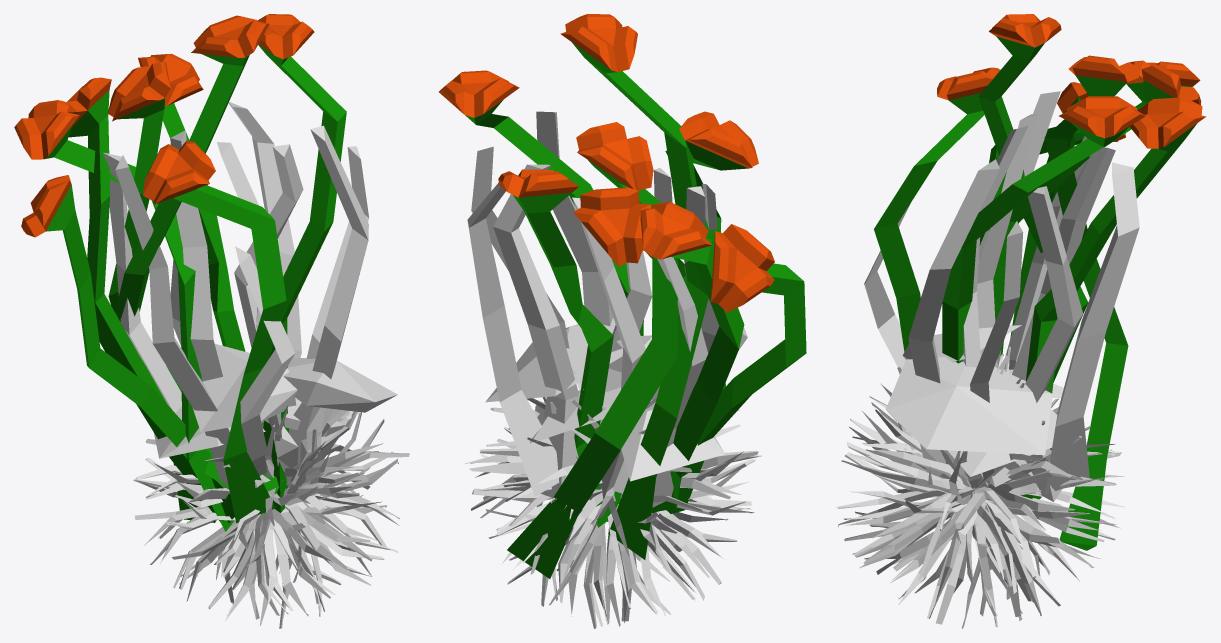
Rendered from seagrass.glb.
The picture shows the model from 3 angles, left to right: view 1: azimuth 30°, elevation 25°; view 2: azimuth 150°, elevation 25°; view 3: azimuth 270°, elevation 25°; orthographic projection. The views are drawn at different scales.
Visible parts, largest first — view 1: flower-1, seagrass-1, seagrass-3, seagrass-2; view 2: flower-1, seagrass-1, seagrass-3, seagrass-2; view 3: flower-1, seagrass-1, seagrass-3, seagrass-2.
Part boxes in pixels (left/top/right/bottom): flower-1: left=14, top=14, right=346, bottom=531; seagrass-1: left=103, top=102, right=369, bottom=487; seagrass-3: left=133, top=357, right=409, bottom=628; seagrass-2: left=153, top=344, right=397, bottom=488; flower-1: left=439, top=14, right=806, bottom=578; seagrass-1: left=467, top=111, right=747, bottom=507; seagrass-3: left=465, top=369, right=761, bottom=628; seagrass-2: left=485, top=318, right=725, bottom=481; flower-1: left=874, top=14, right=1206, bottom=550; seagrass-1: left=864, top=91, right=1139, bottom=501; seagrass-3: left=836, top=347, right=1124, bottom=628; seagrass-2: left=885, top=325, right=1063, bottom=476.
Size of the model in its own units: 3.42 by 5.95 by 3.34.
